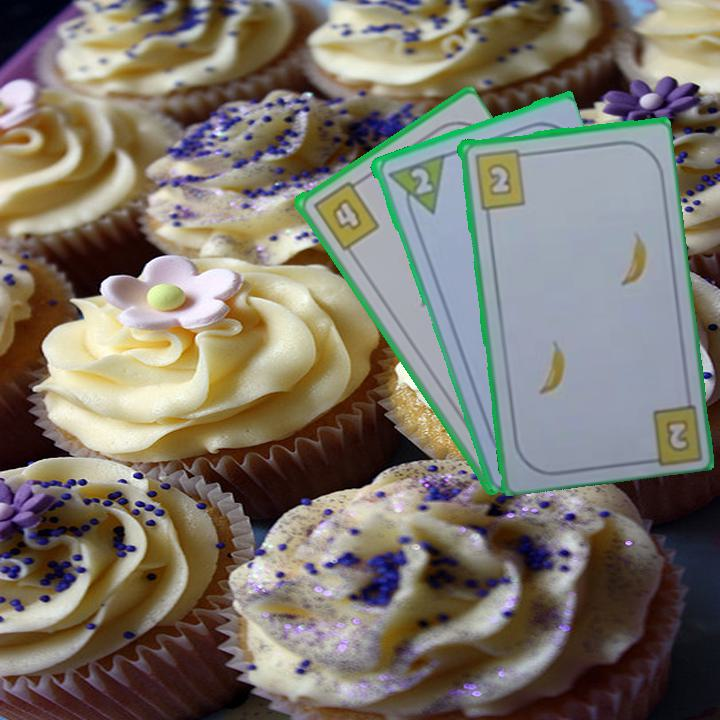2b: (470, 145, 532, 212), (661, 415, 695, 455)
2p: (406, 163, 435, 197)
4b: (308, 175, 382, 253)
